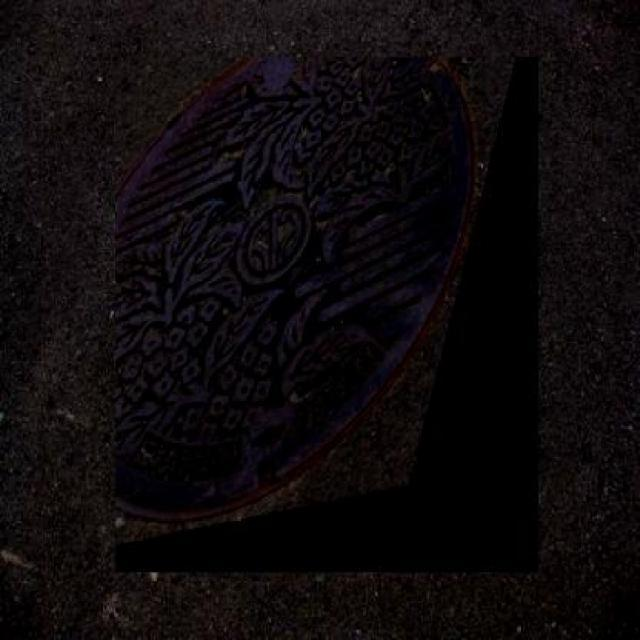Manhole: (116, 56, 538, 572)
